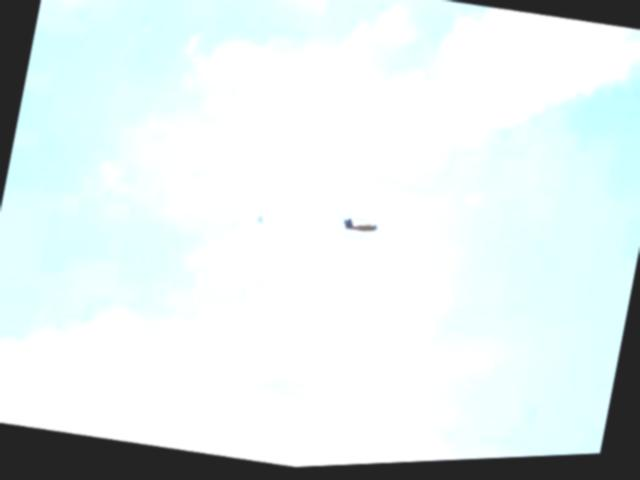uav: (342, 214, 381, 241)
